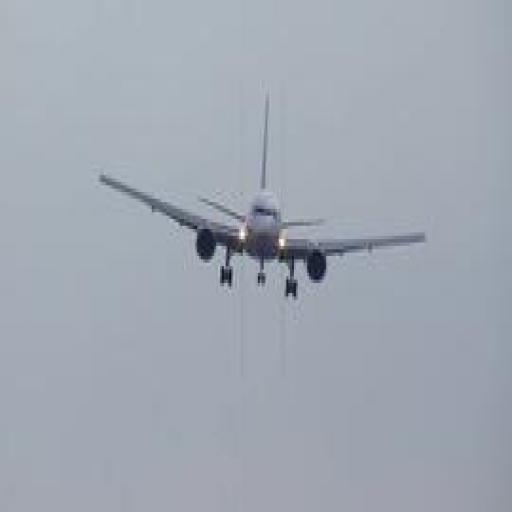aircraft: (98, 94, 426, 303)
